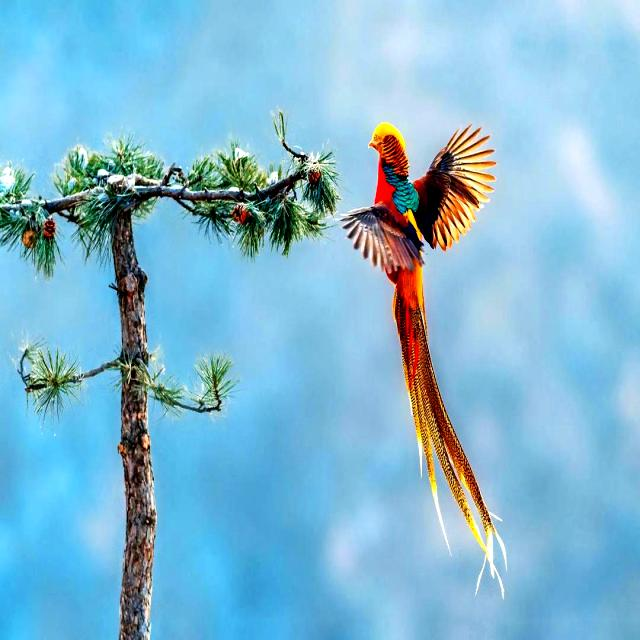Chrysolophus pictus feather: (392, 289, 507, 599)
